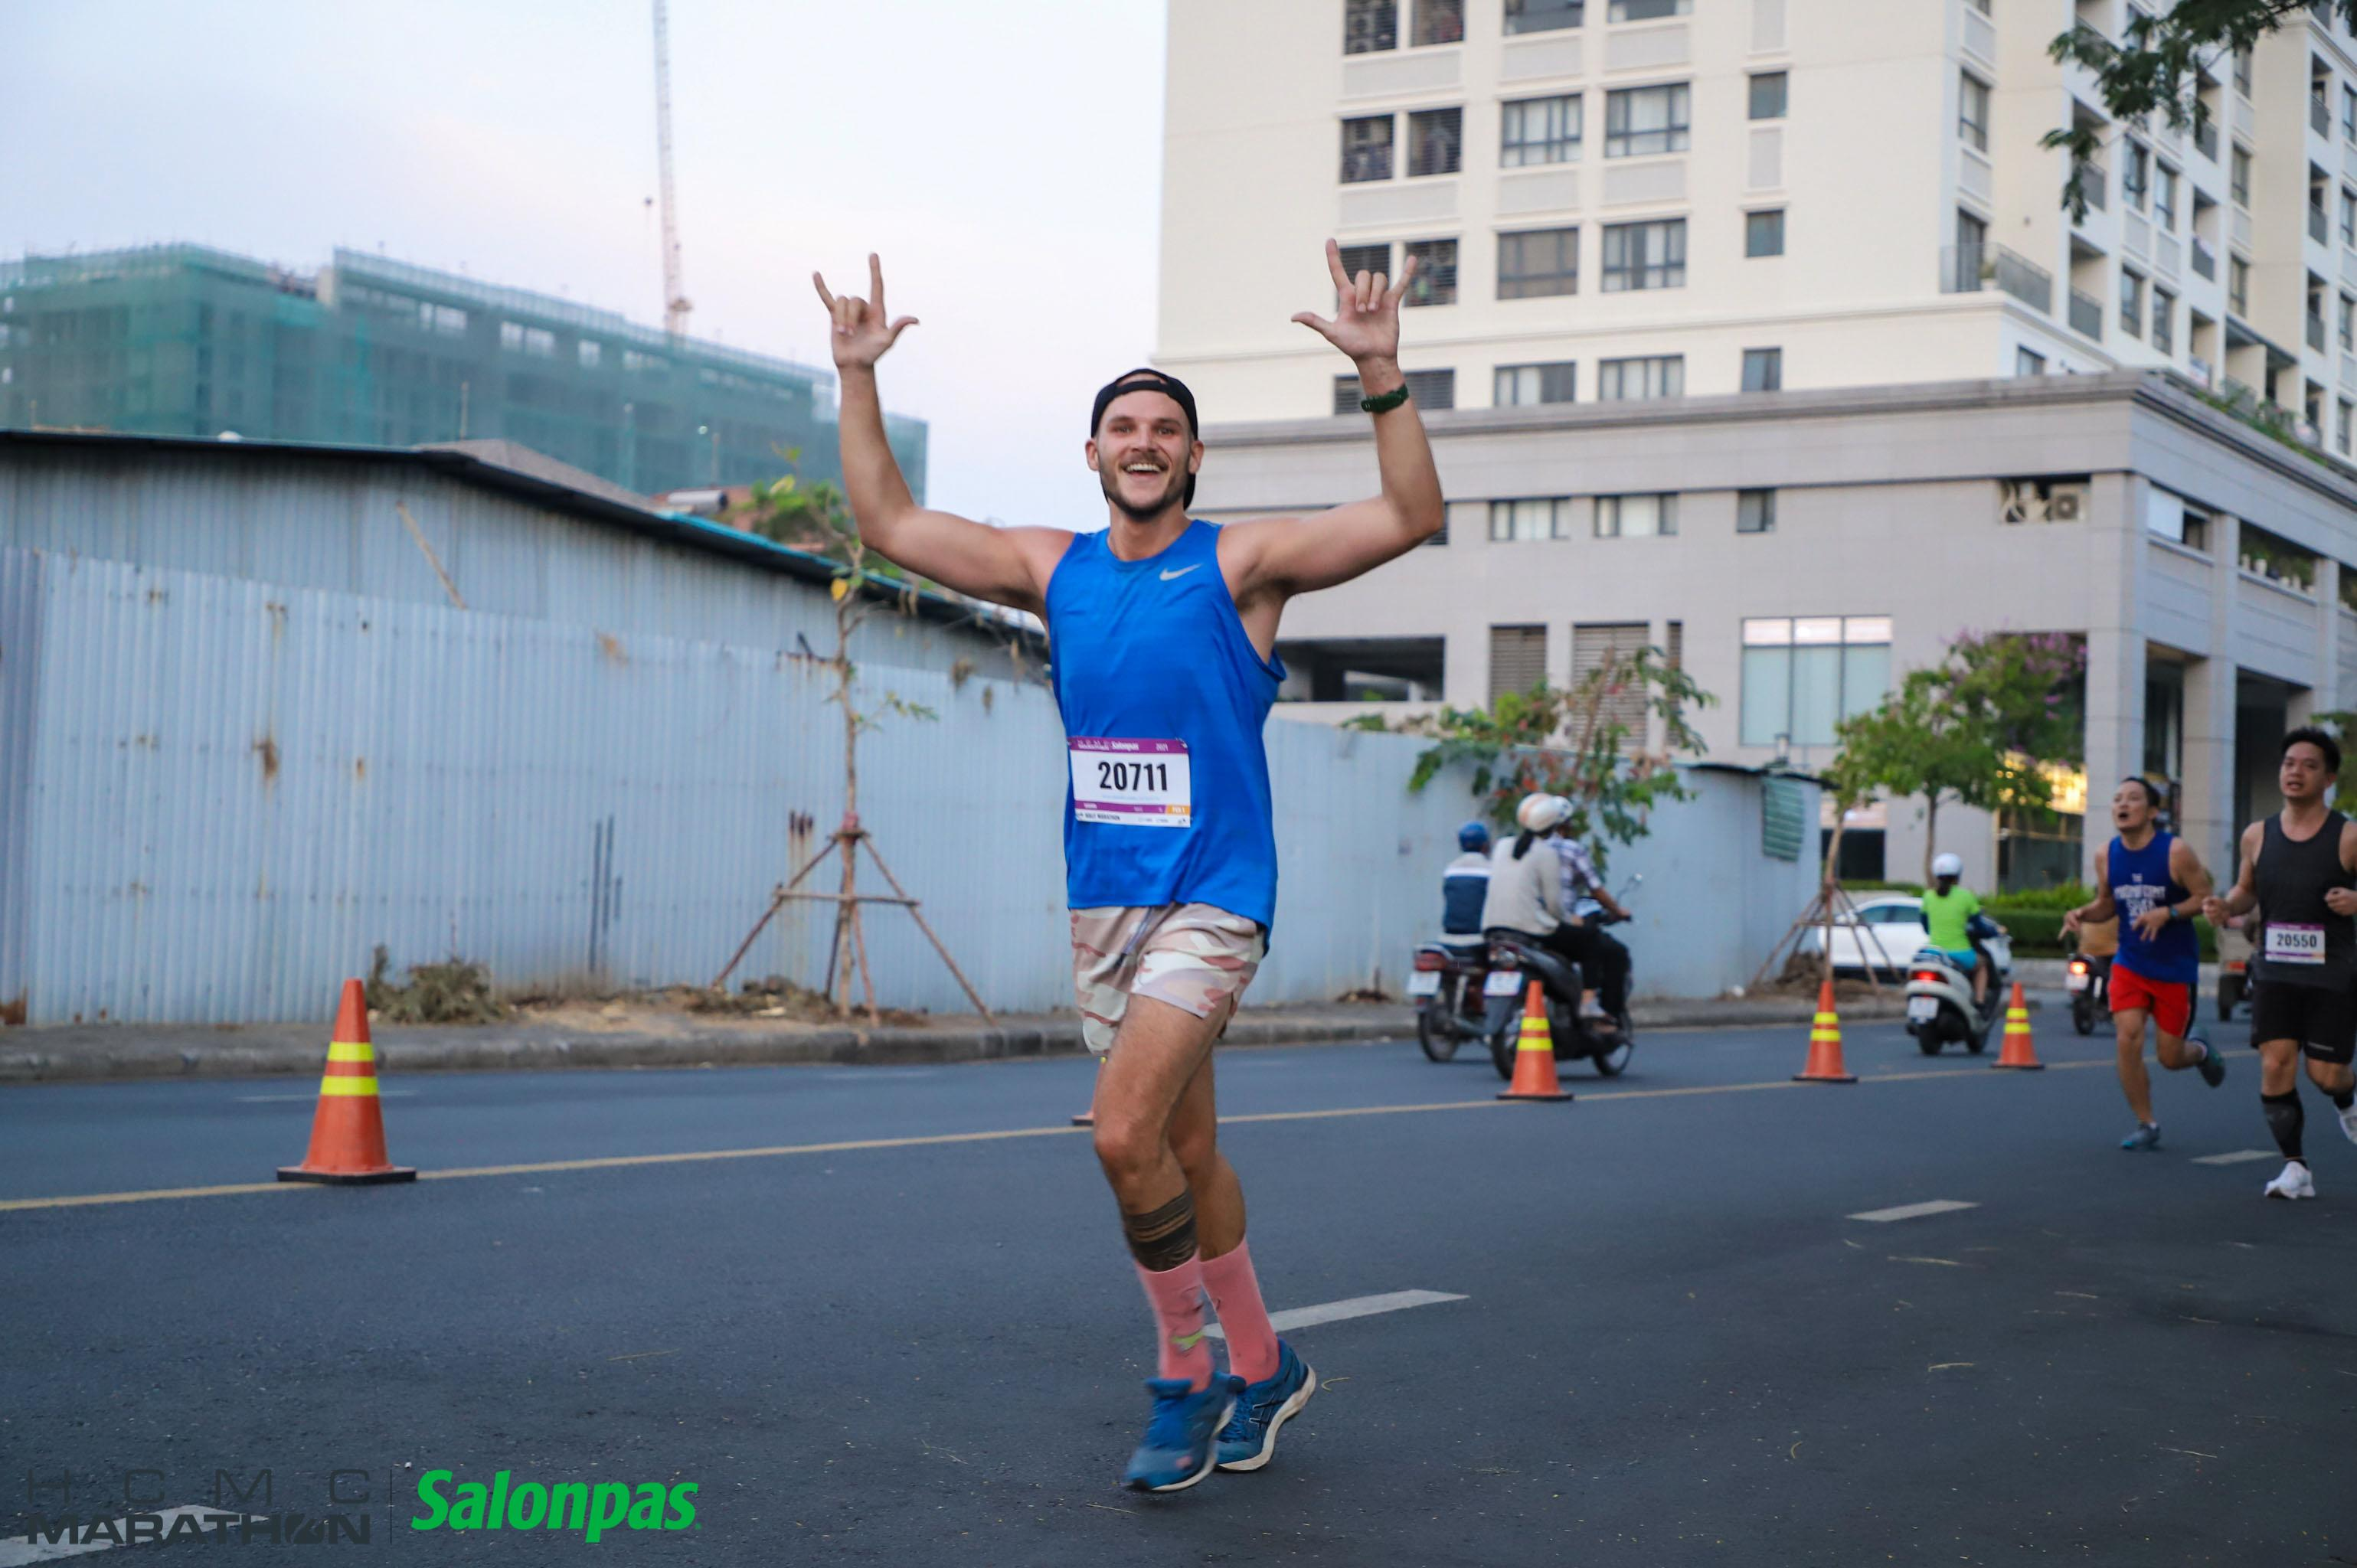bib: (1071, 735, 1195, 829), (2263, 922, 2324, 964)
